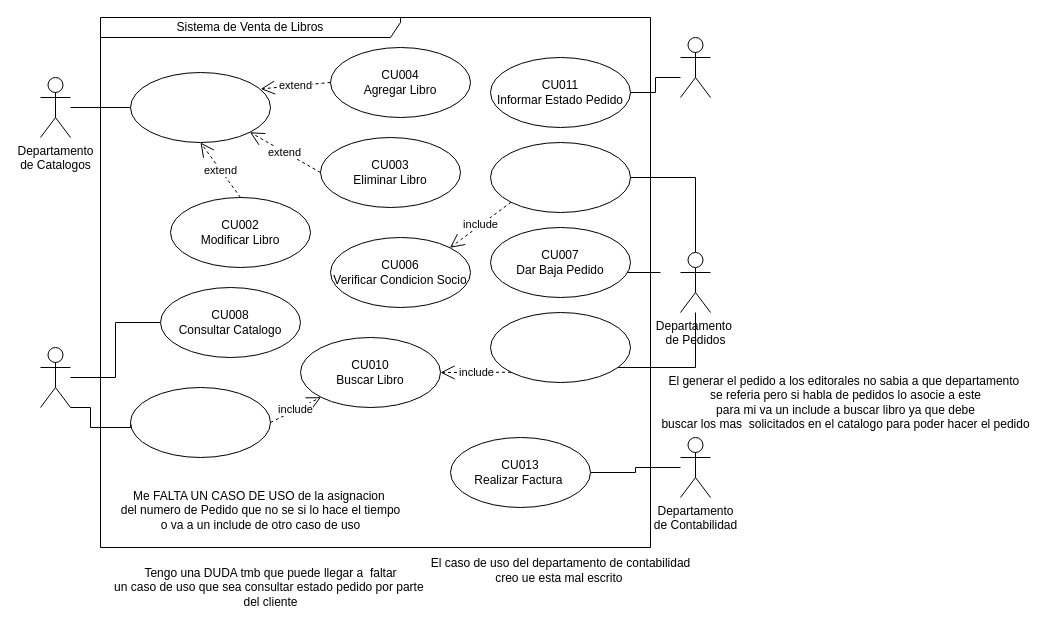
Image size: 1057x635. Some labels were removed from this diagram. The shapes that lost their labels are listed below. From the top down, each one's centre as x and y in pixels, then its label:
pixel 695 67: Tiempo
pixel 200 107: CU001 Gestionar Catalogo de Libros
pixel 560 177: CU005 Registrar Pedidos
pixel 560 347: CU012 Generar Pedidos a las Editoriales
pixel 55 377: Cliente
pixel 200 422: CU009 Realizar Pedido
